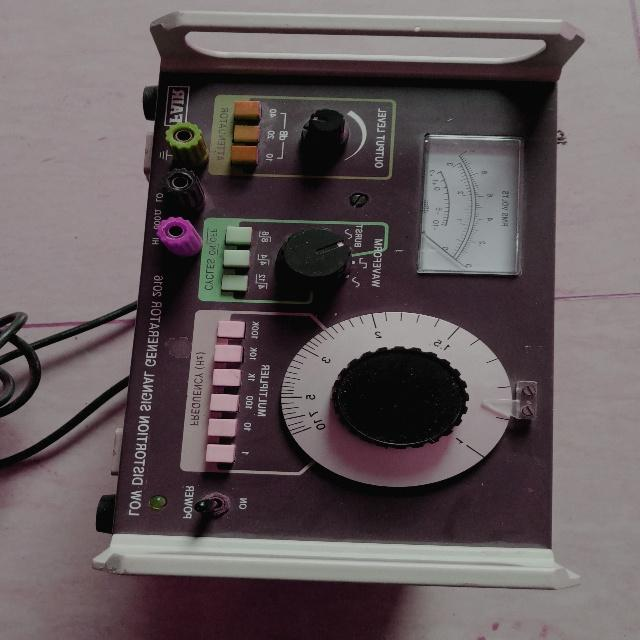Low Distortion Signal Generator: (56, 0, 626, 611)
